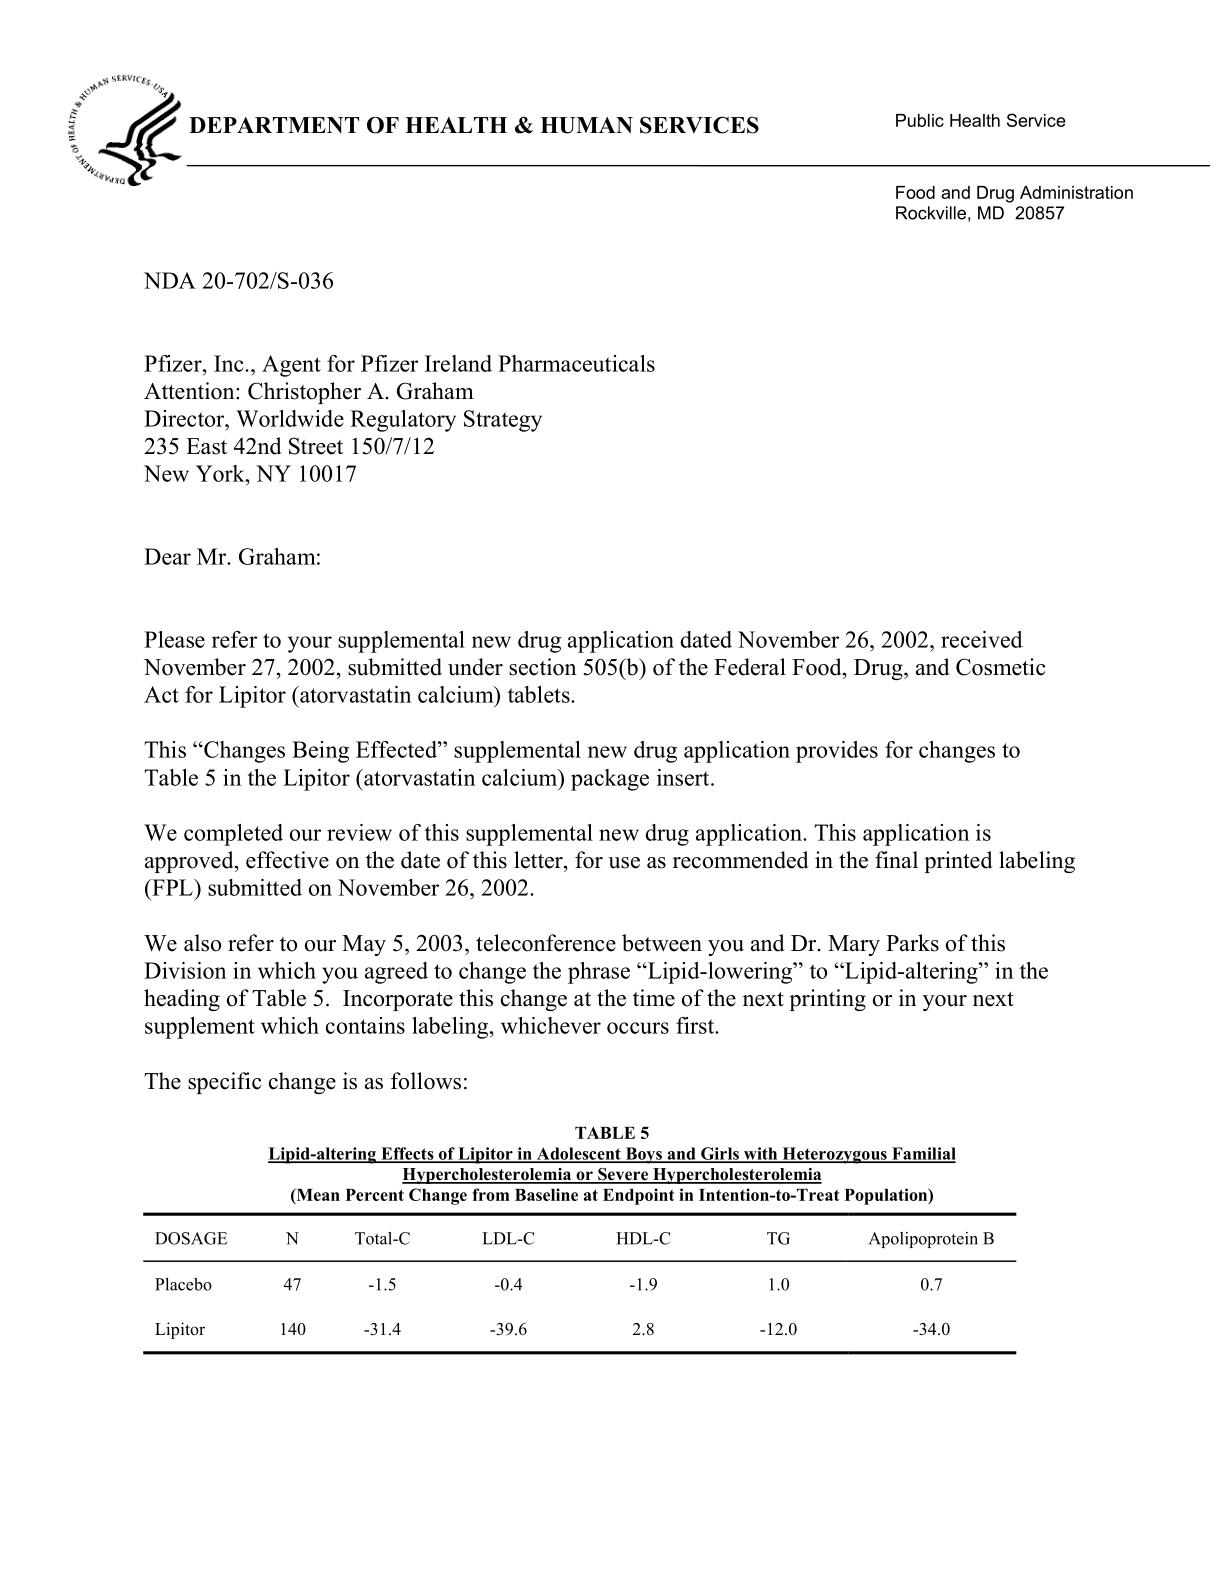partial_lined: (141, 1212, 1017, 1355)
